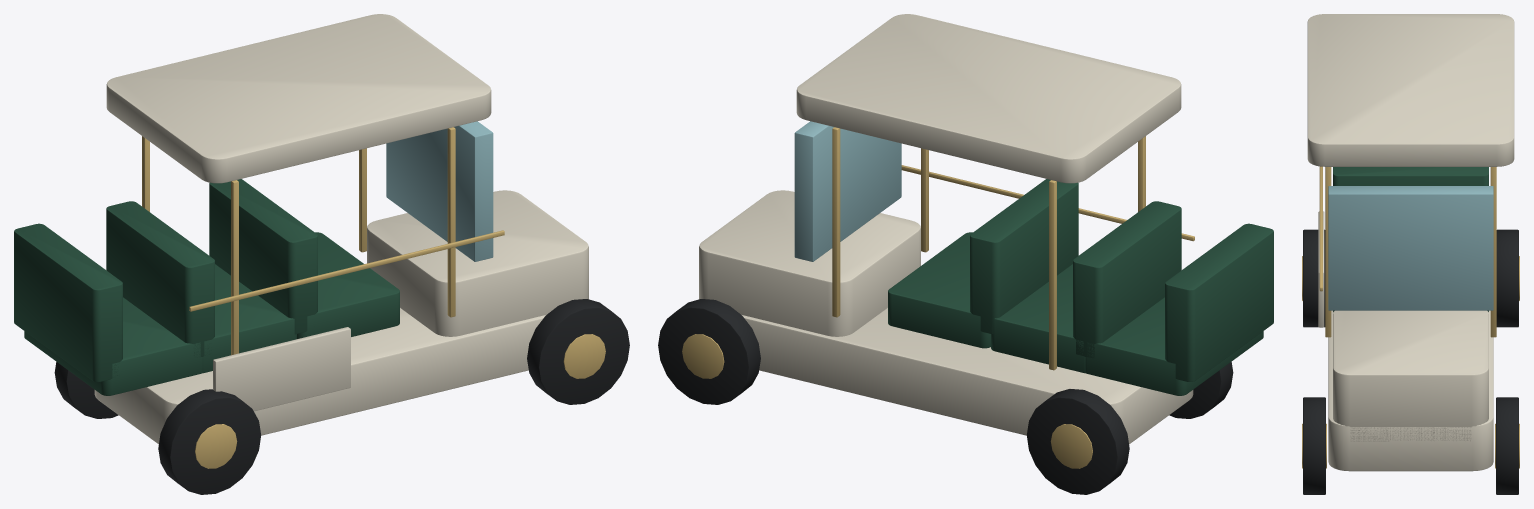
The model's file is golf_cart_country_club.glb.
The picture shows the model from 3 angles, left to right: view 1: azimuth 30°, elevation 25°; view 2: azimuth 150°, elevation 25°; view 3: azimuth 270°, elevation 25°; orthographic projection. The views are drawn at different scales.
Parts seen in each view (by area): view 1: Canopy_Roof, GolfCart_Hood, GolfCart_Chassis, GolfCart_SeatBack_3, GolfCart_SeatBack_2, GolfCart_Windshield, GolfCart_SeatBack_1, GolfCart_StorageDoor, CartWheel_Front_L_Tire, CartWheel_Rear_L_Tire, GolfCart_Seat_1, GolfCart_Seat_3 (+8 smaller); view 2: Canopy_Roof, GolfCart_Chassis, GolfCart_Hood, GolfCart_SeatBack_3, GolfCart_SeatBack_2, GolfCart_Windshield, GolfCart_SeatBack_1, CartWheel_Rear_R_Tire, CartWheel_Front_R_Tire, GolfCart_Seat_1, GolfCart_Seat_3, GolfCart_Seat_2 (+7 smaller); view 3: Canopy_Roof, GolfCart_Windshield, GolfCart_Hood, GolfCart_Chassis, GolfCart_SeatBack_1, CartWheel_Rear_R_Tire, CartWheel_Front_L_Tire, CartWheel_Front_R_Tire, CartWheel_Rear_L_Tire, Canopy_Post_2_1, Canopy_Post_2_2, GolfCart_StorageDoor (+1 smaller).
Boxes of the visible parts, x1=… form: Canopy_Roof: x1=106, y1=14, x2=491, y2=183; GolfCart_Hood: x1=367, y1=190, x2=588, y2=336; GolfCart_Chassis: x1=94, y1=308, x2=545, y2=444; GolfCart_SeatBack_3: x1=14, y1=223, x2=122, y2=381; GolfCart_SeatBack_2: x1=106, y1=201, x2=214, y2=357; GolfCart_Windshield: x1=386, y1=121, x2=493, y2=261; GolfCart_SeatBack_1: x1=209, y1=179, x2=317, y2=334; GolfCart_StorageDoor: x1=213, y1=327, x2=350, y2=411; CartWheel_Front_L_Tire: x1=527, y1=299, x2=629, y2=404; CartWheel_Rear_L_Tire: x1=158, y1=389, x2=261, y2=494; GolfCart_Seat_1: x1=297, y1=232, x2=399, y2=338; GolfCart_Seat_3: x1=24, y1=297, x2=202, y2=395; Canopy_Roof: x1=796, y1=14, x2=1181, y2=183; GolfCart_Chassis: x1=742, y1=308, x2=1193, y2=444; GolfCart_Hood: x1=699, y1=190, x2=920, y2=336; GolfCart_SeatBack_3: x1=1165, y1=223, x2=1273, y2=381; GolfCart_SeatBack_2: x1=1073, y1=201, x2=1181, y2=358; GolfCart_Windshield: x1=794, y1=121, x2=901, y2=261; GolfCart_SeatBack_1: x1=970, y1=179, x2=1078, y2=334; CartWheel_Rear_R_Tire: x1=1026, y1=389, x2=1129, y2=494; CartWheel_Front_R_Tire: x1=658, y1=299, x2=760, y2=404; GolfCart_Seat_1: x1=888, y1=232, x2=990, y2=348; GolfCart_Seat_3: x1=1085, y1=297, x2=1263, y2=395; GolfCart_Seat_2: x1=991, y1=264, x2=1085, y2=373; Canopy_Roof: x1=1307, y1=14, x2=1514, y2=166; GolfCart_Windshield: x1=1328, y1=186, x2=1493, y2=310; GolfCart_Hood: x1=1333, y1=310, x2=1488, y2=441; GolfCart_Chassis: x1=1328, y1=310, x2=1493, y2=471; GolfCart_SeatBack_1: x1=1333, y1=167, x2=1488, y2=185; CartWheel_Rear_R_Tire: x1=1496, y1=229, x2=1518, y2=327; CartWheel_Front_L_Tire: x1=1303, y1=397, x2=1325, y2=494; CartWheel_Front_R_Tire: x1=1496, y1=397, x2=1518, y2=494; CartWheel_Rear_L_Tire: x1=1303, y1=229, x2=1325, y2=327; Canopy_Post_2_1: x1=1325, y1=167, x2=1331, y2=337; Canopy_Post_2_2: x1=1490, y1=167, x2=1496, y2=337; GolfCart_StorageDoor: x1=1318, y1=211, x2=1324, y2=327.
Size of what is drawn, in the model's own units: 3.21 by 1.95 by 1.25.
